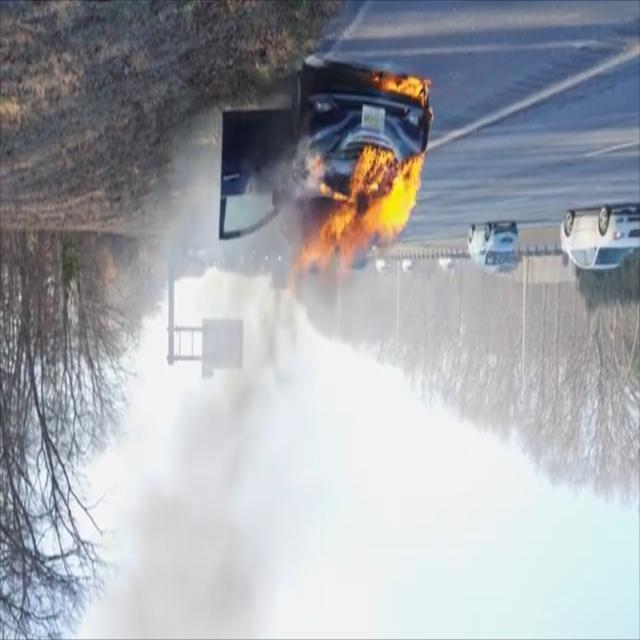fire: (301, 70, 438, 287)
